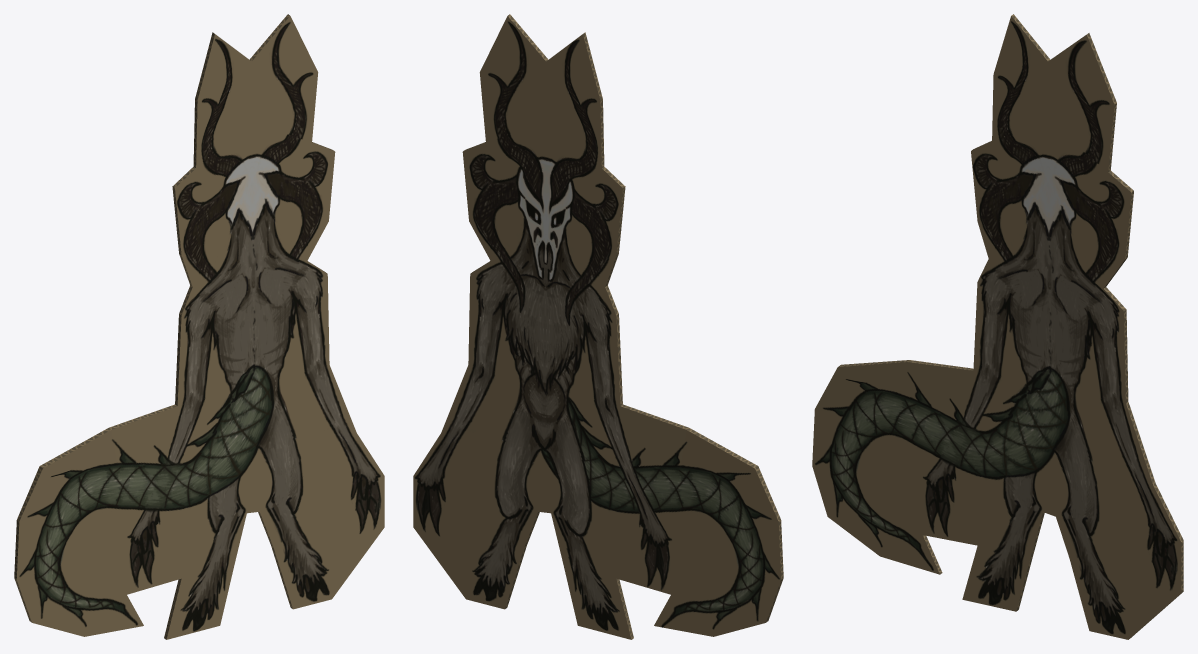
Rendered from Monster1.fbx.
3 renders of one model, left to right at view 1: azimuth 30°, elevation 25°; view 2: azimuth 150°, elevation 25°; view 3: azimuth 330°, elevation 25°, orthographic.
Visible parts, largest first — view 1: Monster1_Mesh; view 2: Monster1_Mesh; view 3: Monster1_Mesh.
Part boxes in pixels (x1=…): Monster1_Mesh: x1=14, y1=14, x2=384, y2=639; Monster1_Mesh: x1=413, y1=14, x2=783, y2=639; Monster1_Mesh: x1=812, y1=14, x2=1183, y2=639.
Size of the model in its own units: 251 by 388 by 4.03.
2 materials, 2 textured.
